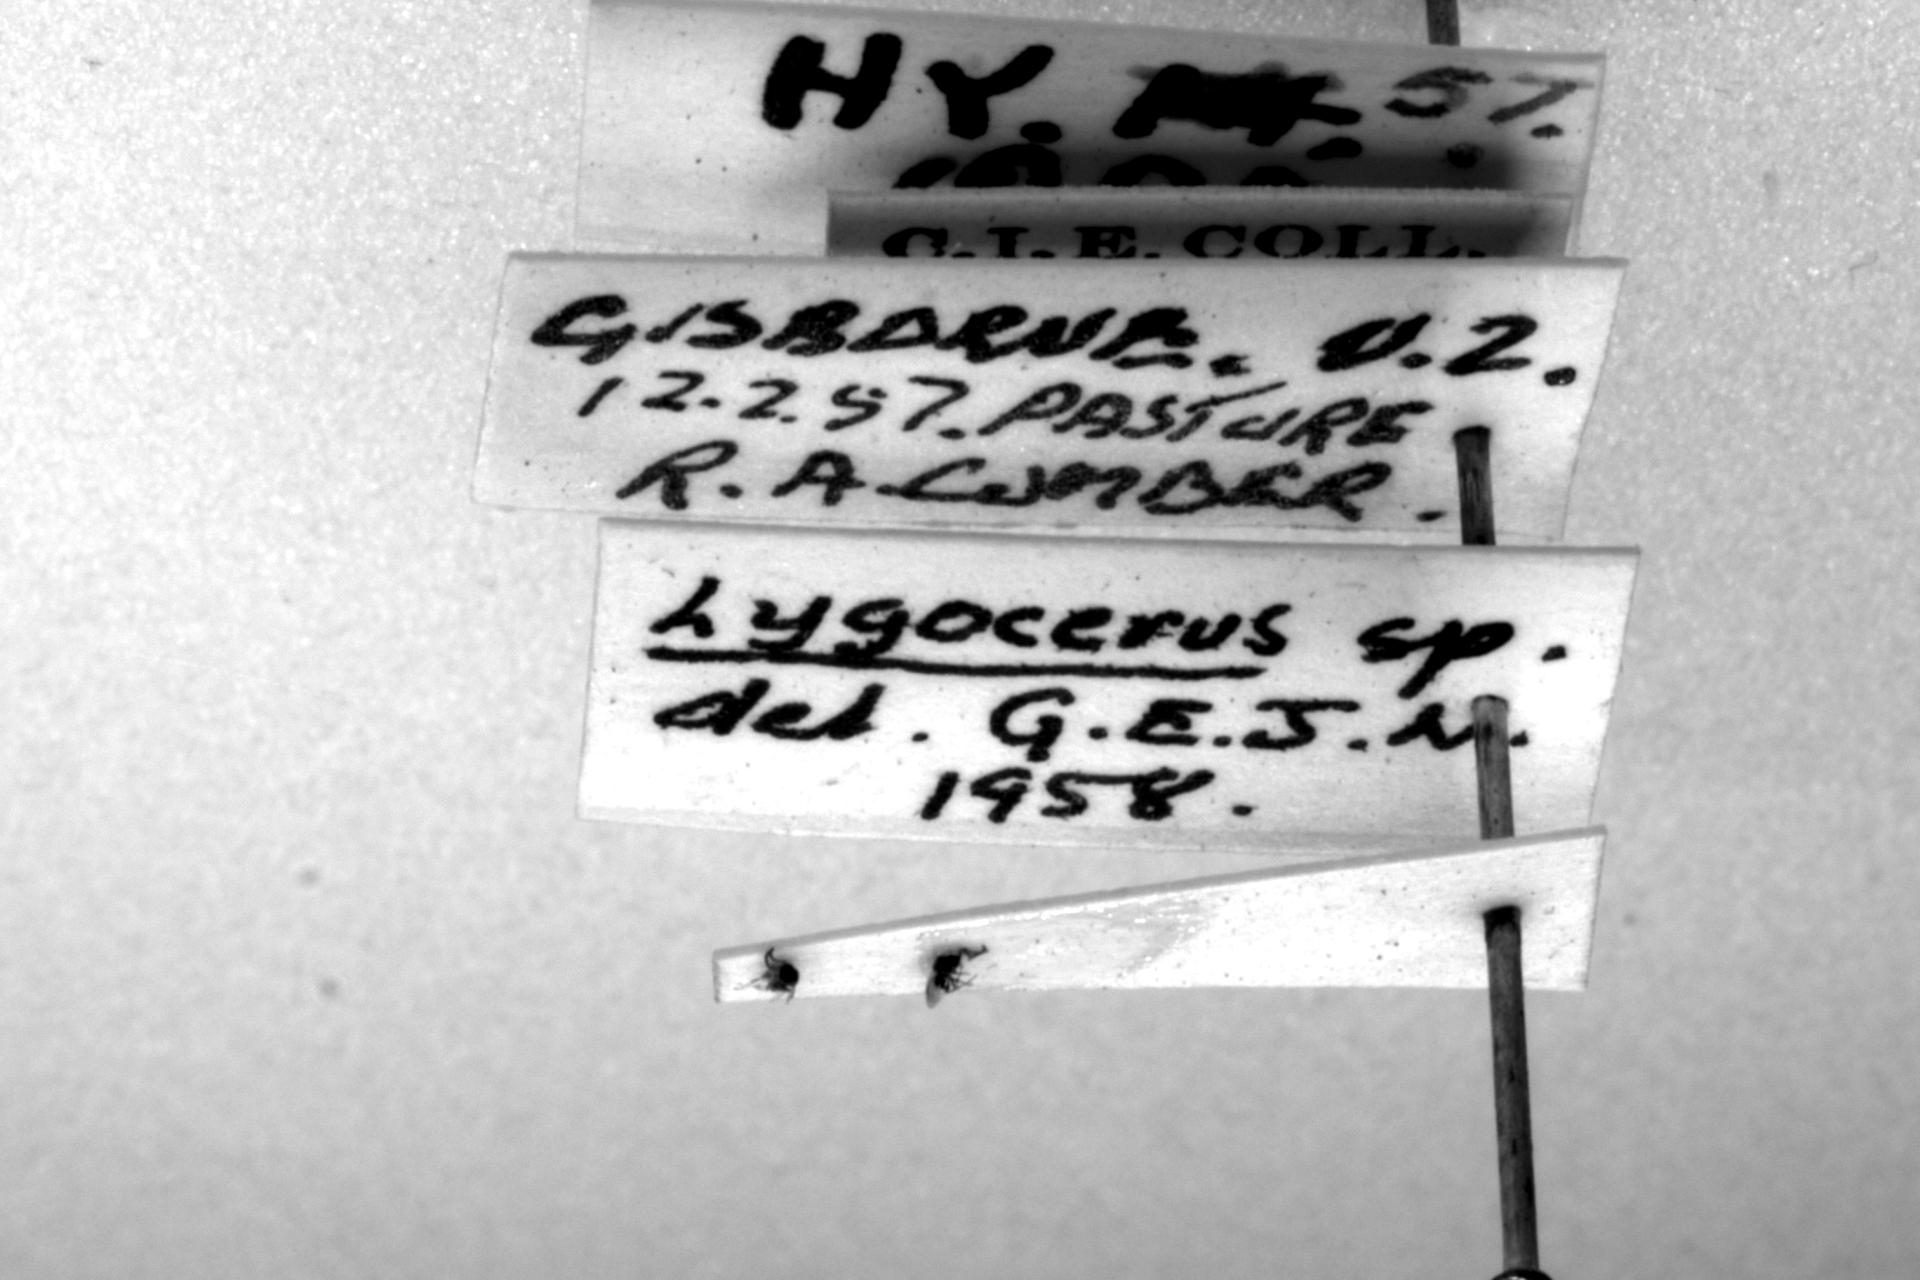hand_label: (578, 521, 1635, 851), (472, 255, 1624, 536)
